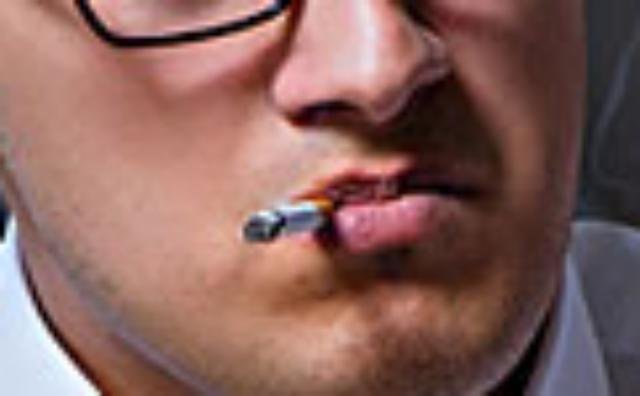Smoking: (242, 198, 336, 244)
